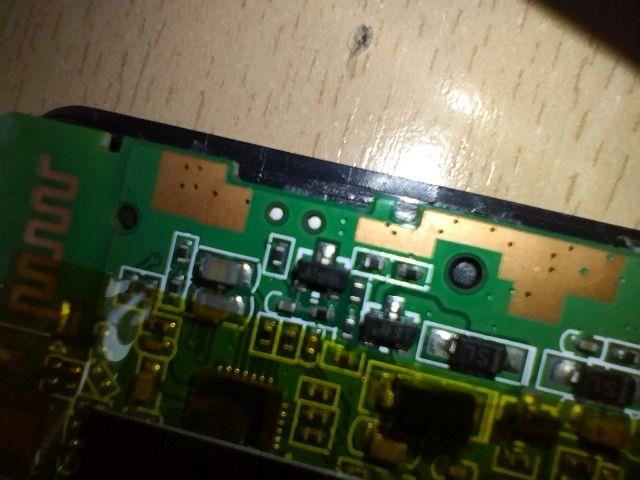capacitor: (556, 333, 605, 357)
resistor: (608, 337, 640, 375), (254, 313, 276, 355), (266, 233, 288, 274), (390, 260, 425, 284), (359, 253, 388, 276), (175, 231, 194, 264), (146, 318, 182, 335), (311, 299, 332, 327), (278, 324, 295, 354), (169, 270, 186, 299), (302, 429, 326, 448), (303, 407, 329, 424), (314, 383, 333, 400)
